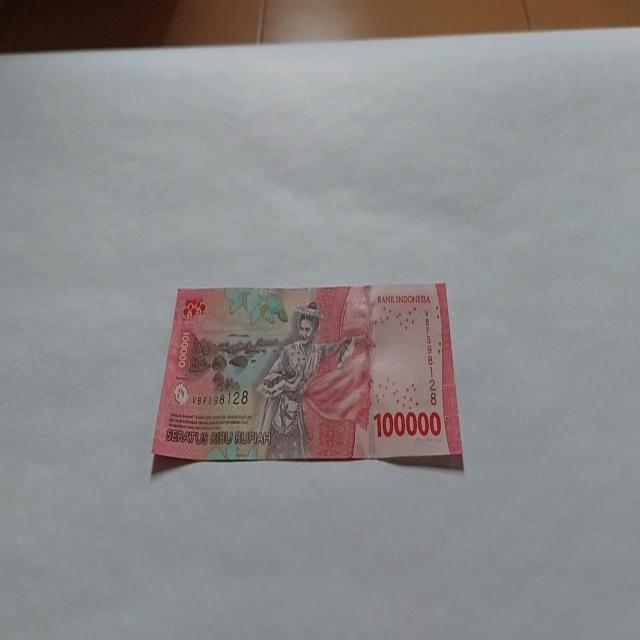seratus ribu rupiah: (150, 280, 464, 470), (252, 300, 354, 460)
